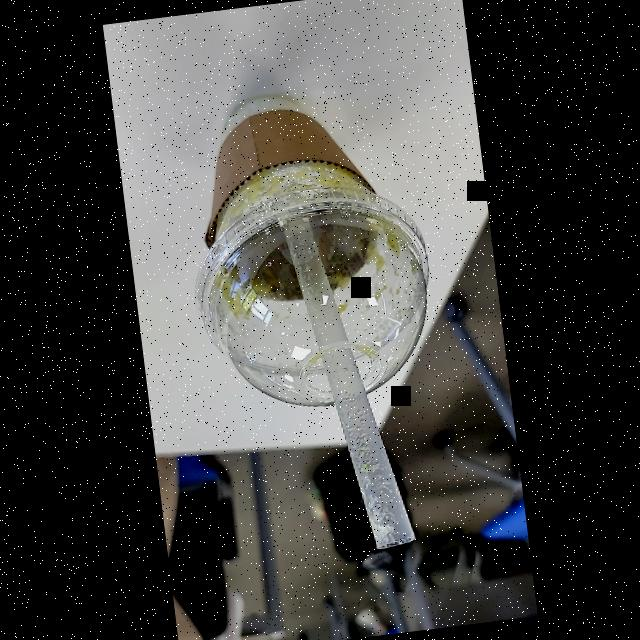plastic_cup: (166, 74, 446, 422)
plastic_cup_lid: (179, 178, 448, 420)
straw: (276, 205, 416, 554)
